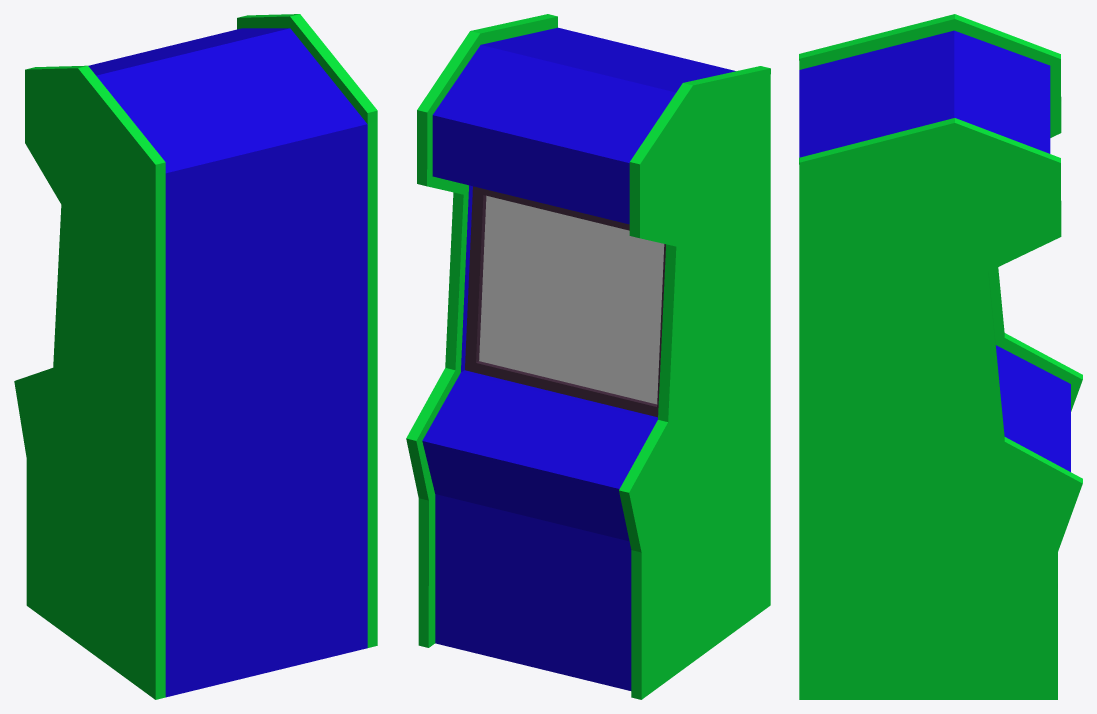
File: working console.fbx
3 views of the same model, side by side, from view 1: azimuth 30°, elevation 25°; view 2: azimuth 150°, elevation 25°; view 3: azimuth 270°, elevation 25° (orthographic).
Parts seen in each view (by area): view 1: Cube.001; view 2: Cube.001; view 3: Cube.001.
Part boxes in pixels (x1,y1,x2,y2): Cube.001: (14,14,377,699); Cube.001: (406,14,770,699); Cube.001: (799,14,1082,699).
Size of the model in its own units: 212 by 524 by 233.
